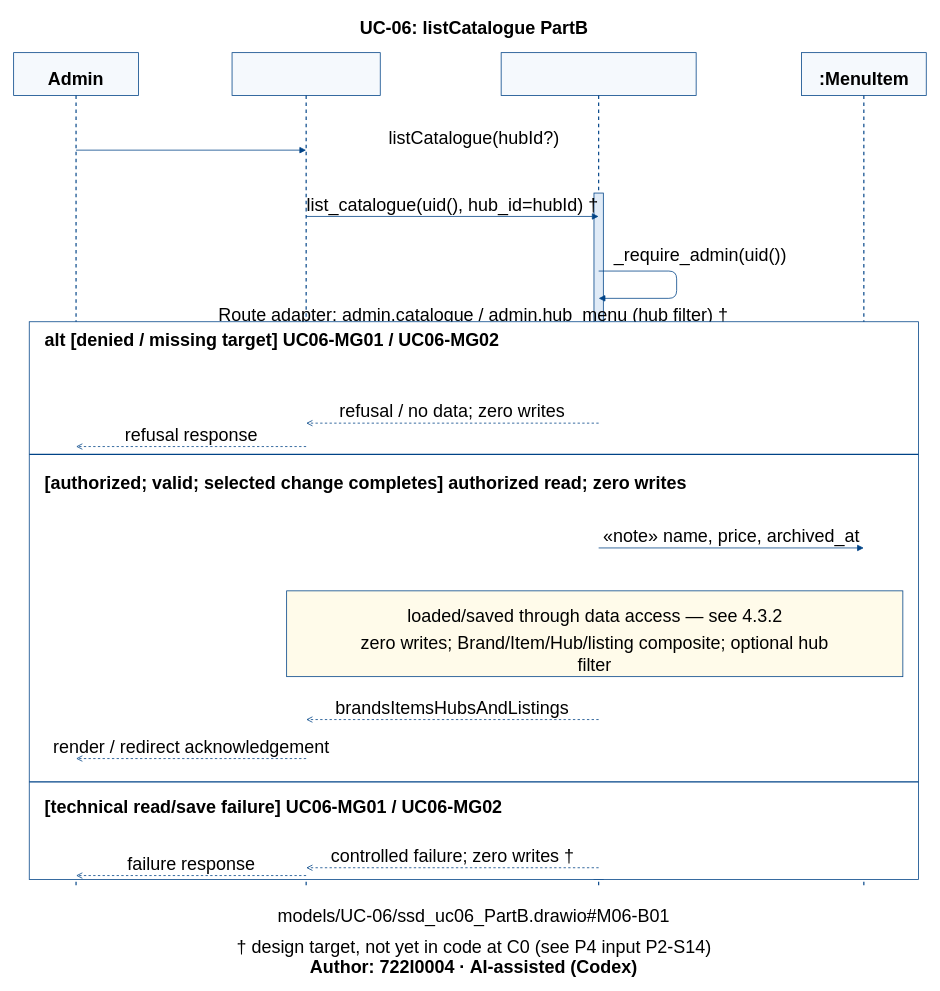
This 940x991 diagram has some shape labels left out. Here are the shapes that lost their labels. From the top down, the centre of each, then its label:
[305,74]: «view» admin
[598,74]: :MenuController
